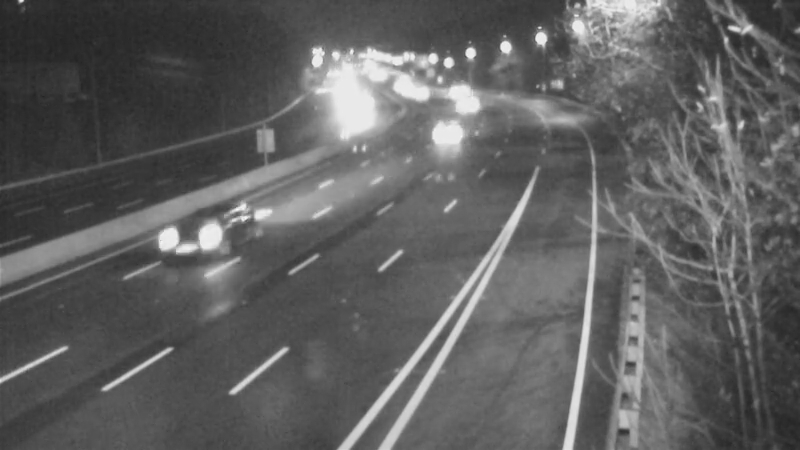vehicle: (152, 195, 232, 275), (372, 62, 422, 112), (387, 66, 437, 116), (394, 69, 444, 119), (430, 67, 480, 117), (447, 80, 497, 130), (424, 110, 474, 160), (325, 84, 375, 134)
